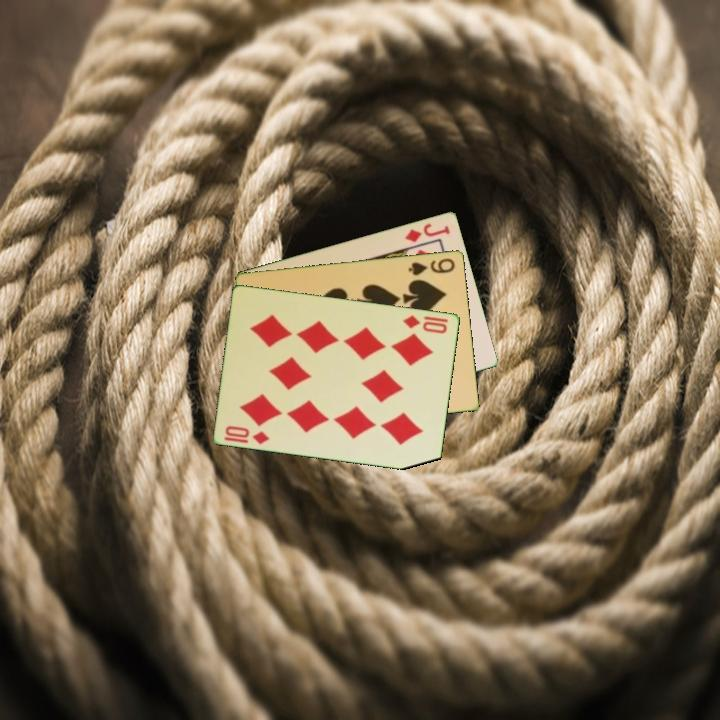10d: (399, 311, 451, 336), (222, 422, 273, 447)
9s: (405, 254, 458, 278)
Jd: (402, 219, 453, 245)
